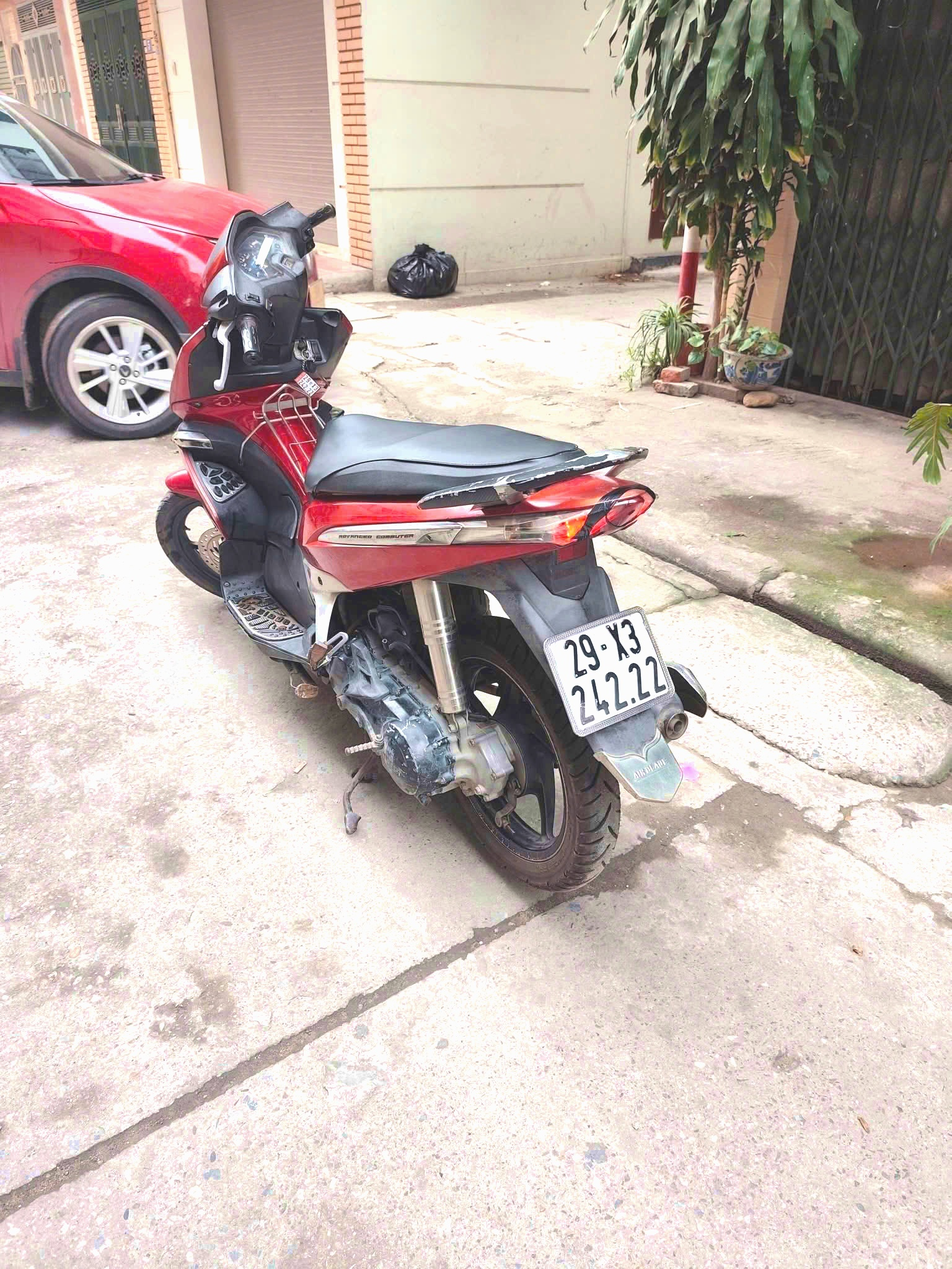Bien-so: (530, 642, 674, 784)
